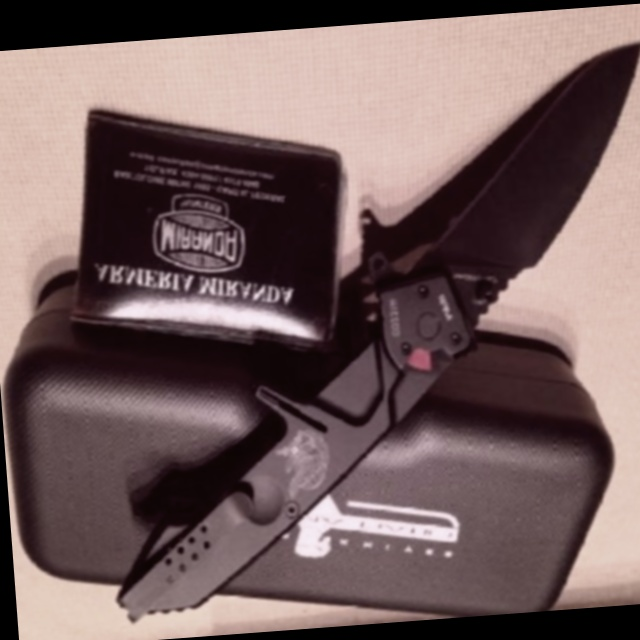Sharp-Object: (79, 40, 640, 622)
